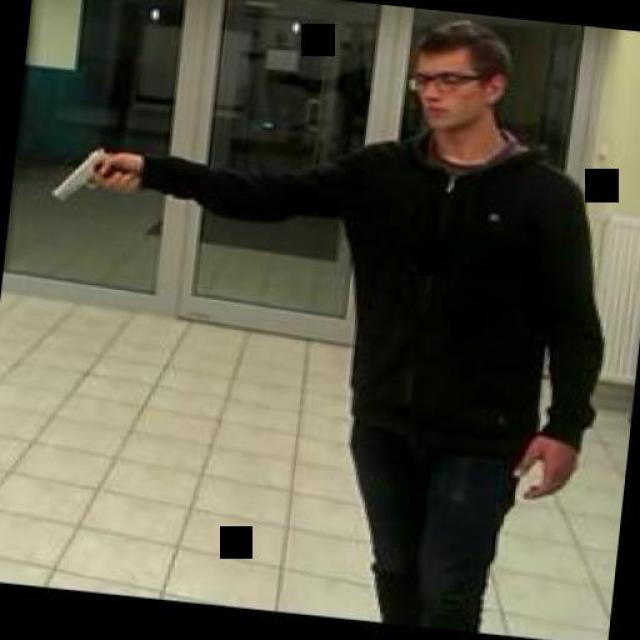gun: (44, 136, 148, 210)
